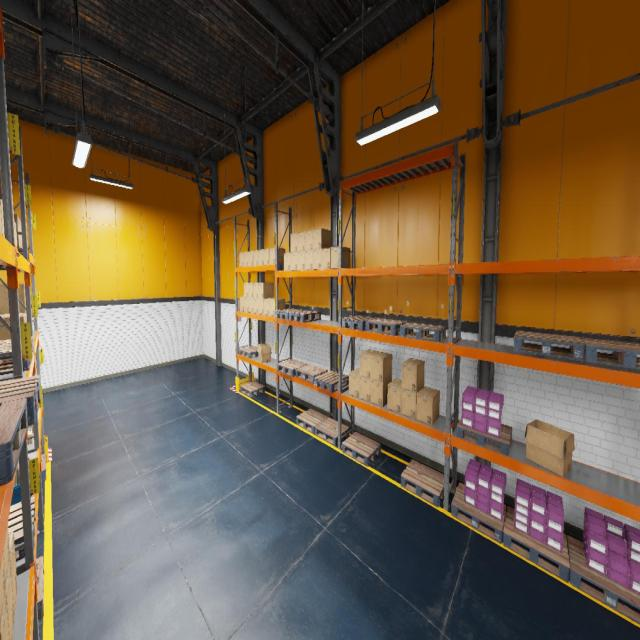box: (524, 419, 574, 476), (416, 386, 439, 426), (0, 283, 26, 314), (401, 386, 424, 419), (402, 358, 424, 392), (9, 532, 17, 618), (6, 558, 14, 640), (371, 352, 392, 382), (0, 315, 25, 340), (371, 378, 392, 407), (359, 349, 380, 378), (388, 378, 402, 414), (0, 551, 6, 628), (0, 590, 9, 640), (3, 522, 10, 586), (331, 246, 350, 268), (313, 228, 331, 249), (359, 376, 371, 402), (349, 368, 359, 398), (269, 298, 285, 316), (270, 247, 286, 264), (258, 343, 272, 362), (1, 313, 27, 322), (258, 283, 273, 298), (14, 213, 20, 248), (322, 248, 331, 269), (264, 298, 274, 315), (305, 250, 313, 270), (313, 249, 321, 269), (305, 230, 313, 250), (297, 231, 305, 251), (0, 199, 4, 237), (297, 251, 305, 270), (290, 252, 298, 270), (290, 233, 297, 252), (11, 181, 14, 220), (284, 252, 290, 271), (263, 248, 269, 265), (258, 298, 264, 314), (19, 218, 22, 248), (15, 221, 18, 250), (253, 282, 258, 298), (248, 282, 253, 298), (258, 249, 263, 265), (253, 250, 258, 266), (248, 251, 253, 266), (27, 430, 32, 444), (0, 199, 2, 234), (248, 298, 253, 312), (254, 298, 258, 314), (244, 251, 248, 266), (0, 165, 2, 194), (244, 298, 248, 312), (244, 283, 248, 297), (20, 221, 22, 248), (240, 296, 243, 311), (240, 252, 243, 267), (28, 425, 33, 432), (14, 220, 15, 244), (38, 415, 39, 425), (26, 313, 27, 322)
pallets: (567, 535, 640, 625), (503, 506, 570, 583), (451, 482, 506, 544), (0, 398, 28, 486), (513, 331, 585, 361), (400, 460, 444, 508), (0, 375, 41, 426), (457, 418, 512, 456), (580, 337, 640, 369), (8, 496, 36, 562), (342, 432, 380, 466), (315, 417, 349, 446), (400, 322, 446, 342), (0, 346, 31, 374), (296, 408, 328, 434), (0, 337, 33, 362), (366, 318, 408, 336), (314, 370, 348, 392), (295, 364, 328, 383), (342, 315, 379, 331), (36, 556, 44, 620), (277, 359, 307, 376), (240, 381, 265, 397), (289, 310, 321, 322), (275, 309, 305, 319), (239, 346, 258, 358), (41, 454, 46, 482)
